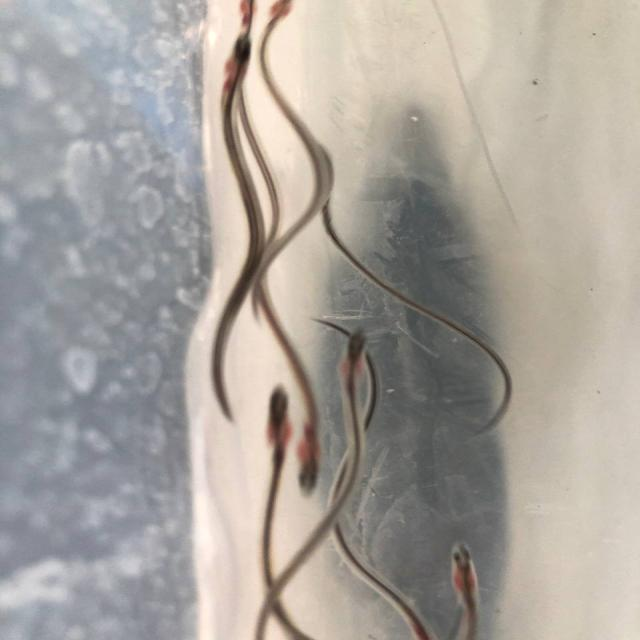glass_eel: (285, 420, 349, 494), (248, 380, 304, 456), (427, 534, 493, 596), (204, 25, 262, 90), (326, 316, 380, 378)
